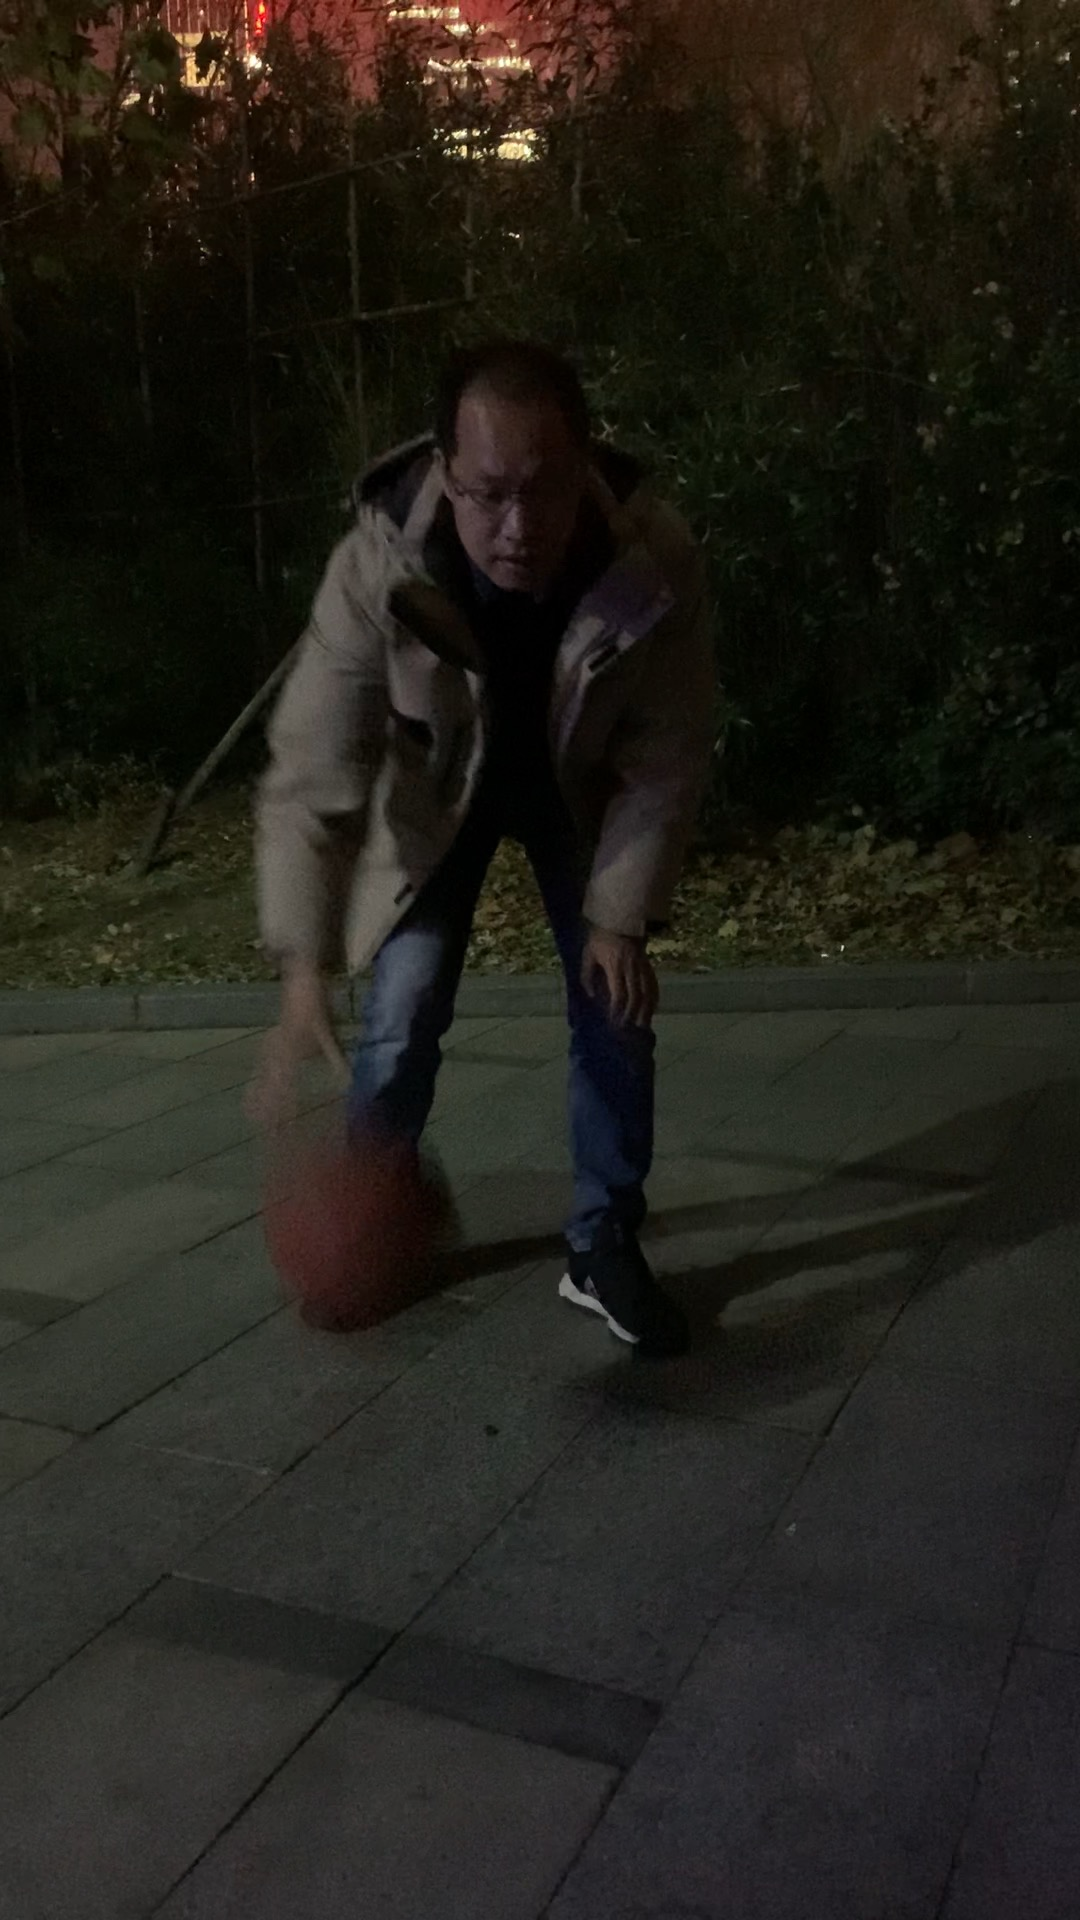ball: (266, 1137, 462, 1333)
